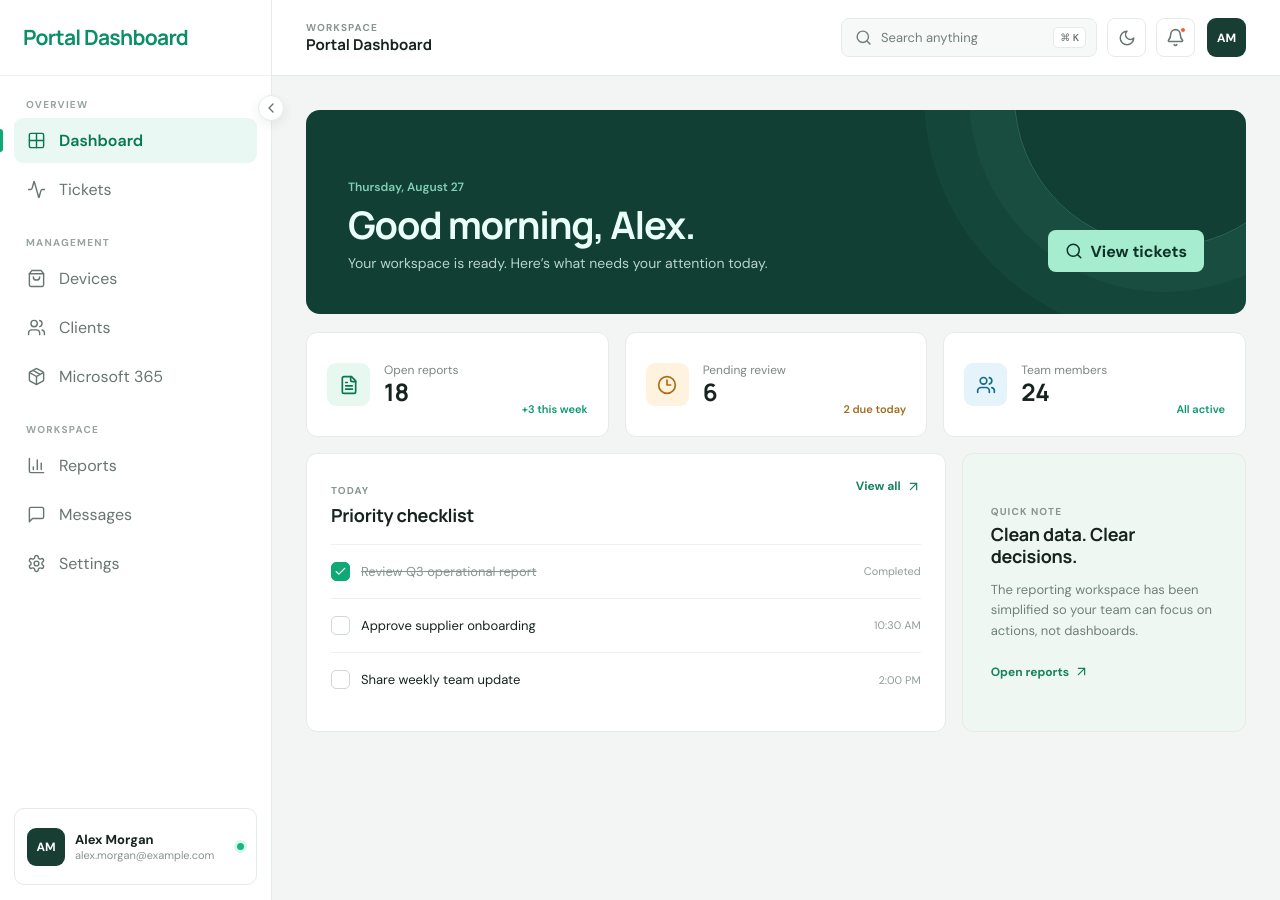
App routing › navigates from the sidebar to the Messages demo
Click the button "Messages".
click(136, 514)  # box left=14, top=492, right=257, bottom=537
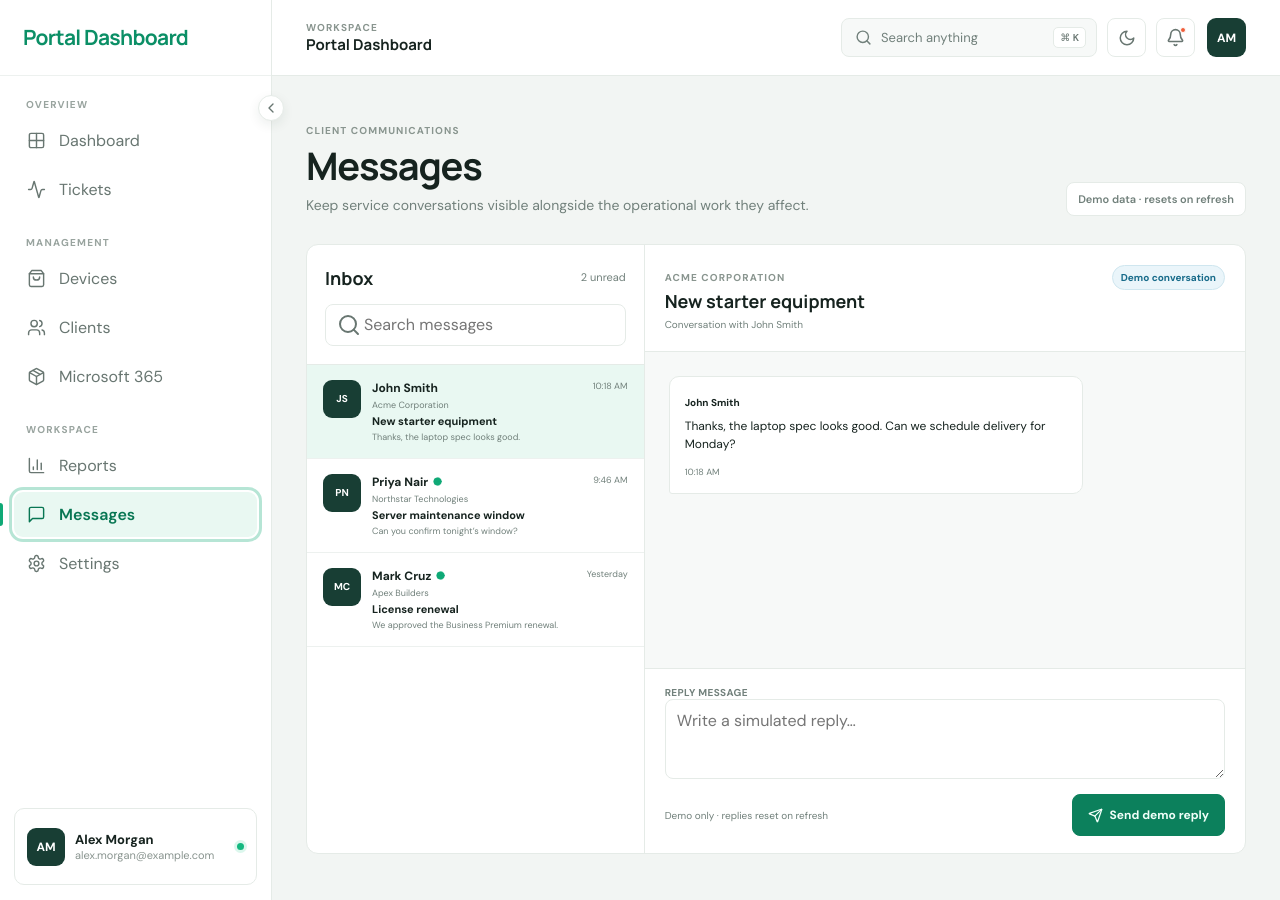
Expected: the heading "Messages" is shown, left=306, top=139, right=482, bottom=191
